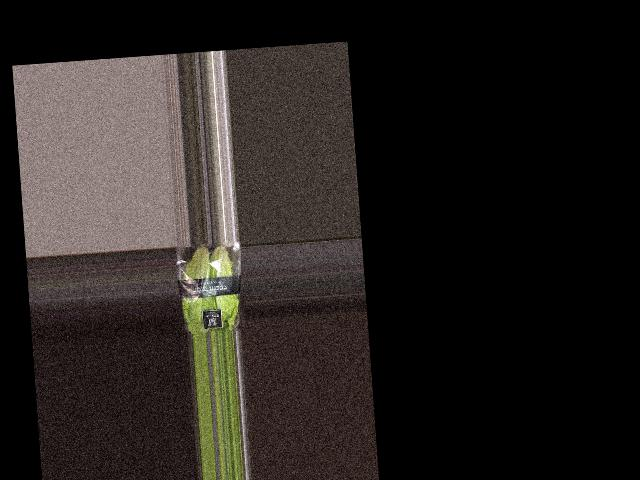lettuce: (179, 240, 246, 333)
